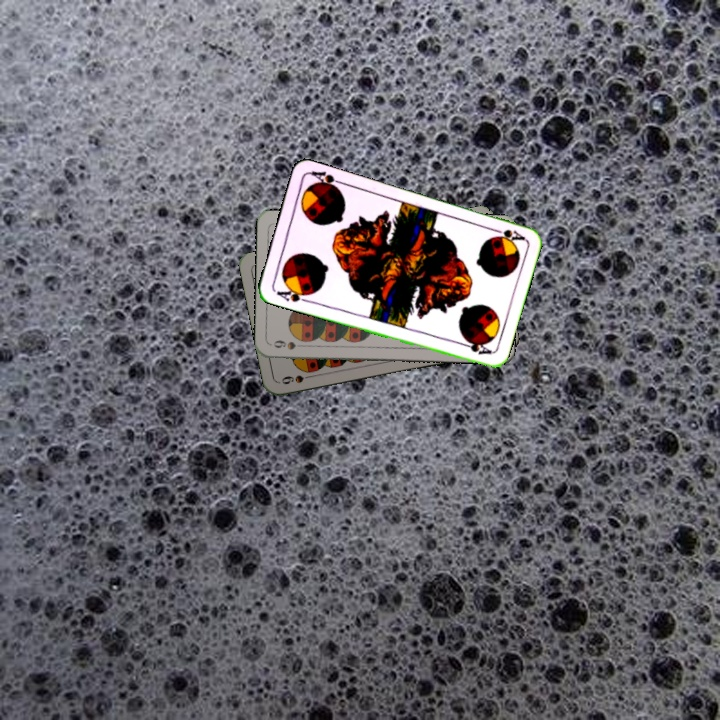S9: (278, 370, 318, 387), (269, 336, 310, 352)
SA: (272, 282, 313, 305), (487, 224, 527, 246)
